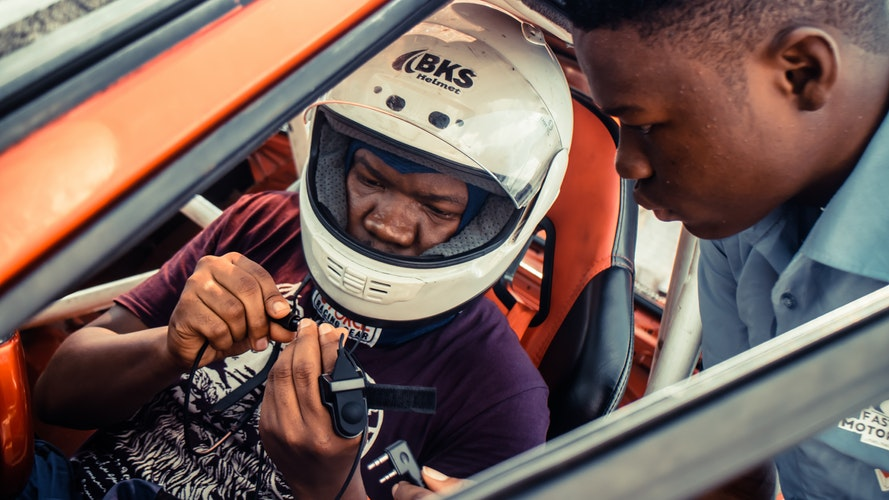helmet: (296, 9, 564, 319)
